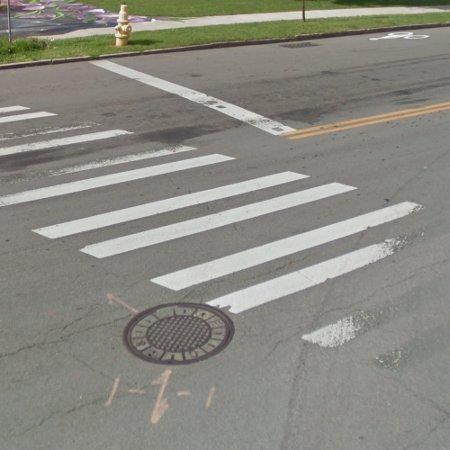crosswalks: (0, 101, 431, 376)
